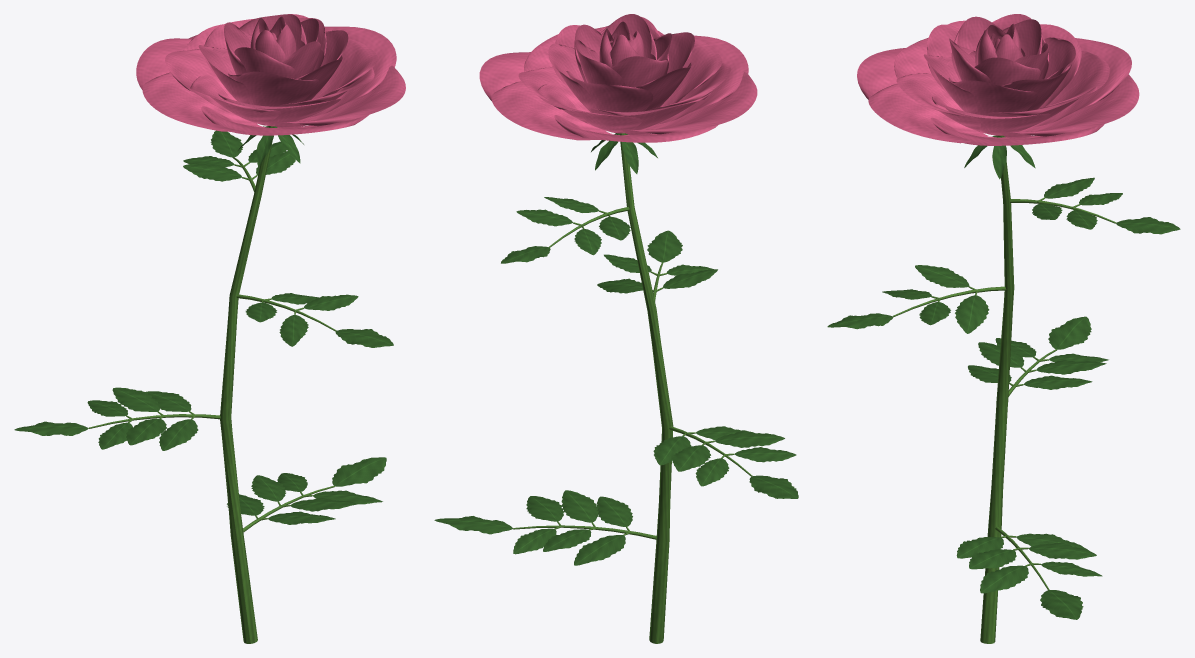
File: rose_plant_v8.glb
The picture shows the model from 3 angles, left to right: view 1: azimuth 30°, elevation 25°; view 2: azimuth 150°, elevation 25°; view 3: azimuth 270°, elevation 25°; orthographic projection. The views are drawn at different scales.
Visible parts, largest first — view 1: main_stem, petal_0_3, petal_0_5, petal_2_5, petal_0_0, petal_1_4, petal_1_0, petal_0_4, petal_1_1, petal_0_2, petal_2_4, terminal_0 (+24 smaller); view 2: main_stem, petal_0_1, petal_0_3, petal_0_4, petal_2_3, petal_1_2, petal_0_0, petal_1_6, petal_0_2, petal_2_2, petal_3_1, petal_1_5 (+26 smaller); view 3: main_stem, petal_0_5, petal_0_1, petal_0_2, petal_2_1, petal_1_3, petal_1_6, petal_0_4, petal_0_0, petal_1_4, petal_2_0, petal_3_4 (+26 smaller).
Boxes of the visible parts, <box> form: main_stem: <box>220,126,275,643</box>; petal_0_3: <box>142,72,262,131</box>; petal_0_5: <box>273,65,405,128</box>; petal_2_5: <box>228,71,319,106</box>; petal_0_0: <box>307,26,396,117</box>; petal_1_4: <box>311,38,378,99</box>; petal_1_0: <box>165,49,237,115</box>; petal_0_4: <box>201,106,368,135</box>; petal_1_1: <box>190,74,280,125</box>; petal_0_2: <box>136,38,192,89</box>; petal_2_4: <box>198,45,249,103</box>; terminal_0: <box>332,457,386,486</box>; main_stem: <box>619,133,673,643</box>; petal_0_1: <box>491,81,611,140</box>; petal_0_3: <box>622,72,757,135</box>; petal_0_4: <box>655,34,748,124</box>; petal_2_3: <box>566,71,653,112</box>; petal_1_2: <box>660,34,722,106</box>; petal_0_0: <box>479,52,530,100</box>; petal_1_6: <box>537,83,642,133</box>; petal_0_2: <box>554,115,717,142</box>; petal_2_2: <box>548,43,596,112</box>; petal_3_1: <box>611,56,667,87</box>; petal_1_5: <box>518,66,595,126</box>; main_stem: <box>980,135,1014,643</box>; petal_0_5: <box>868,84,988,143</box>; petal_0_1: <box>1001,74,1139,138</box>; petal_0_2: <box>1029,38,1131,127</box>; petal_2_1: <box>948,77,1037,115</box>; petal_1_3: <box>896,72,985,133</box>; petal_1_6: <box>1039,51,1109,108</box>; petal_0_4: <box>857,48,905,99</box>; petal_0_0: <box>930,117,1104,145</box>; petal_1_4: <box>932,95,1050,135</box>; petal_2_0: <box>923,54,977,114</box>; petal_3_4: <box>974,57,1040,85</box>.
Bounding box in the file's own units: 0.1816 × 0.2876 × 0.1464.
Materials: 3 (3 with a texture image).
